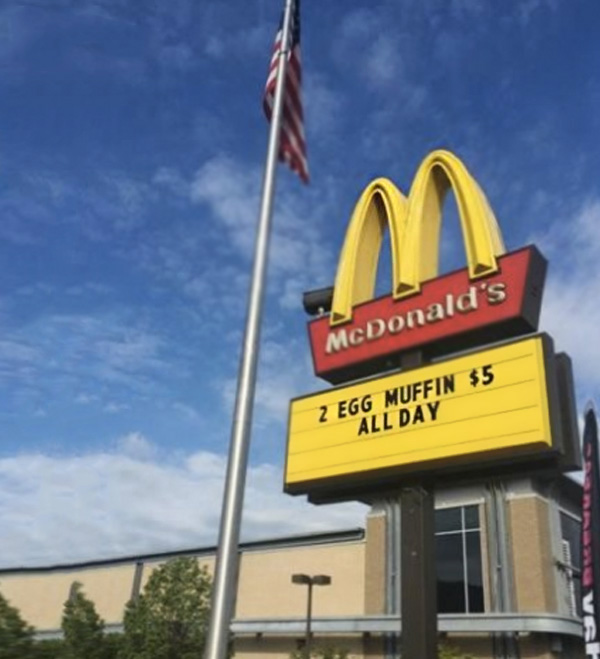mcdonalds: (329, 146, 506, 322)
